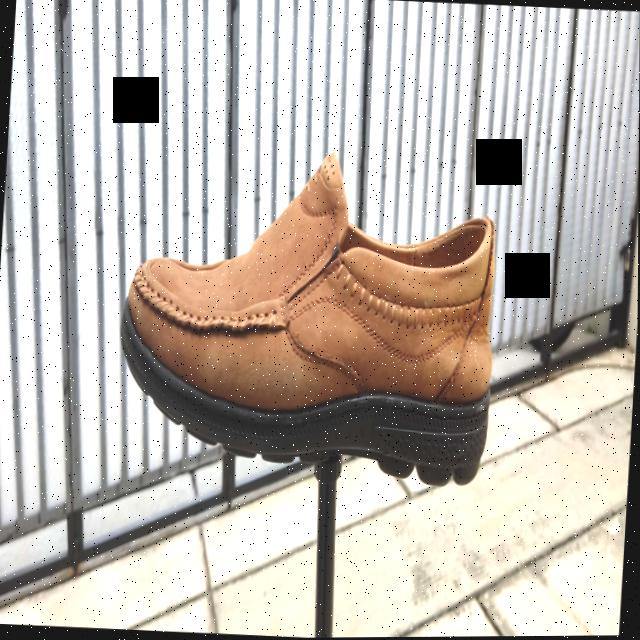shoes: (111, 137, 506, 493)
